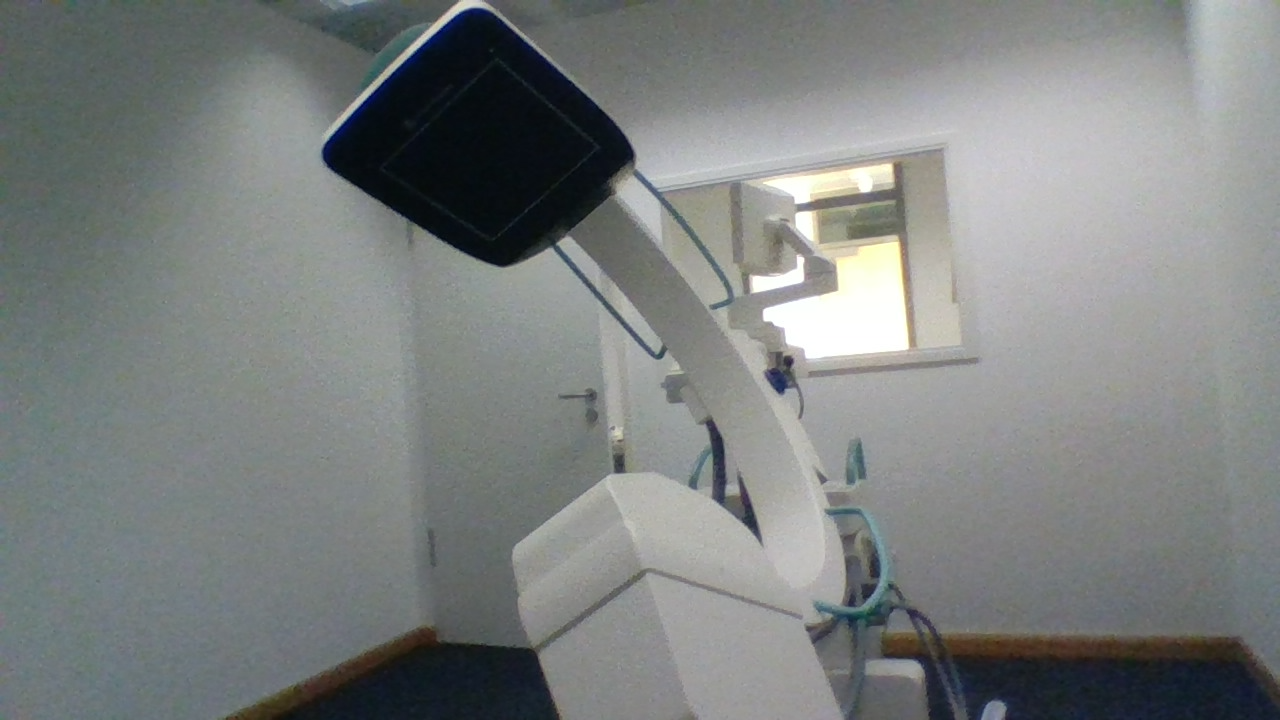carmDOWN: (510, 471, 782, 590)
carmLOCK: (764, 364, 788, 400)
carmSCREEN: (730, 175, 795, 275)
carmUP: (316, 2, 639, 270)
